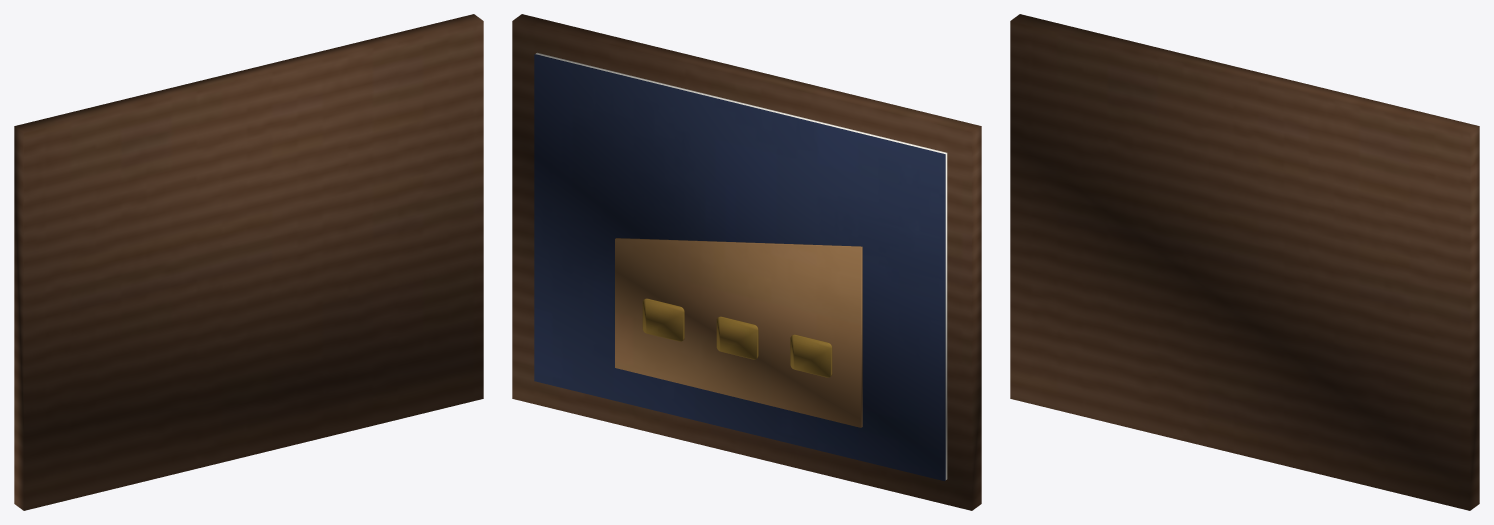
Rendered from picture_lodge.glb.
3 views of the same model, side by side, from view 1: azimuth 30°, elevation 25°; view 2: azimuth 150°, elevation 25°; view 3: azimuth 330°, elevation 25° (orthographic).
Parts seen in each view (by area): view 1: picture_lodge_wood_dark; view 2: picture_lodge_felt_indigo, picture_lodge_wood_dark, picture_lodge_felt_tan, picture_lodge_felt_mustard, picture_lodge_paper_white; view 3: picture_lodge_wood_dark.
Part boxes in pixels (box(x1,y1,x2,y2)): picture_lodge_wood_dark: box(14, 14, 483, 510); picture_lodge_felt_indigo: box(534, 54, 945, 481); picture_lodge_wood_dark: box(512, 14, 981, 510); picture_lodge_felt_tan: box(615, 238, 862, 427); picture_lodge_felt_mustard: box(642, 298, 832, 377); picture_lodge_paper_white: box(535, 52, 947, 479); picture_lodge_wood_dark: box(1010, 14, 1479, 510).
Size of the model in its own units: 1.12 by 0.88 by 0.062.
Materials: 5 (4 with a texture image).
